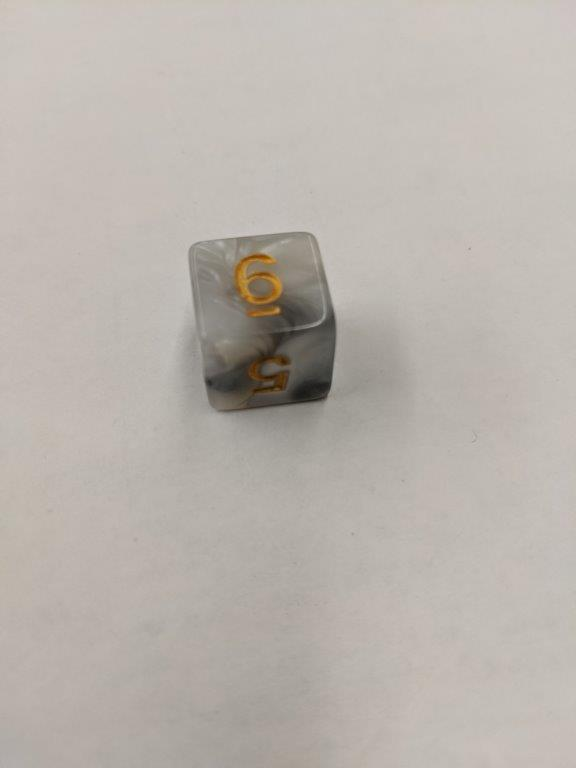d6-6: (190, 231, 341, 411)
